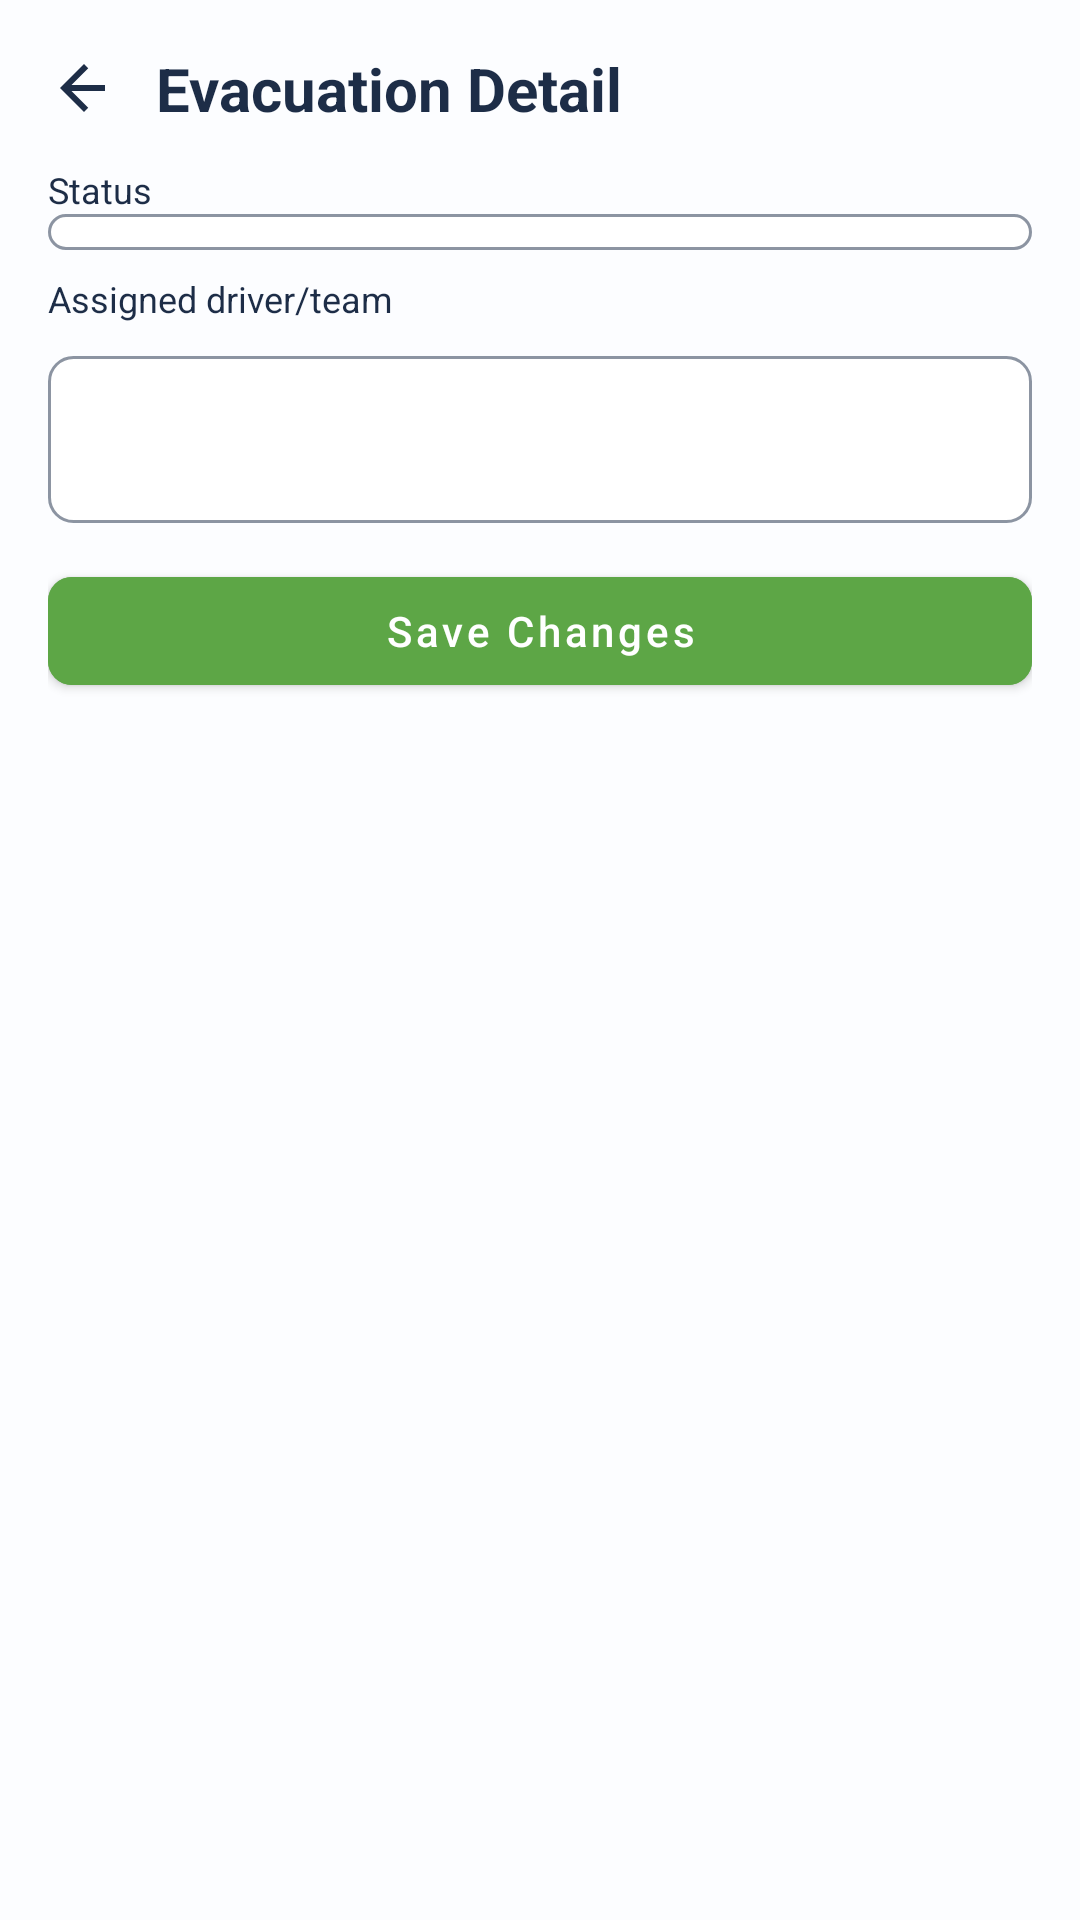

Icons on this 1080×1920 Android screen, each with the point to tap as (x=x, y=y):
arrow back: (x=82, y=88)
